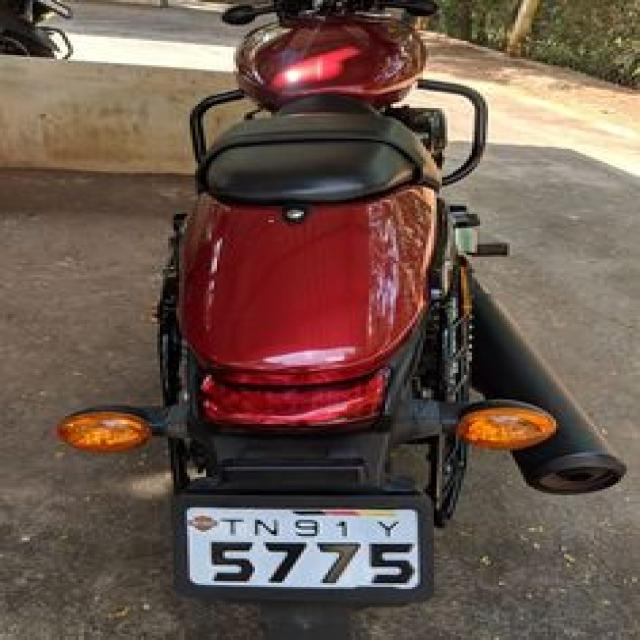number plate: (171, 494, 431, 602)
